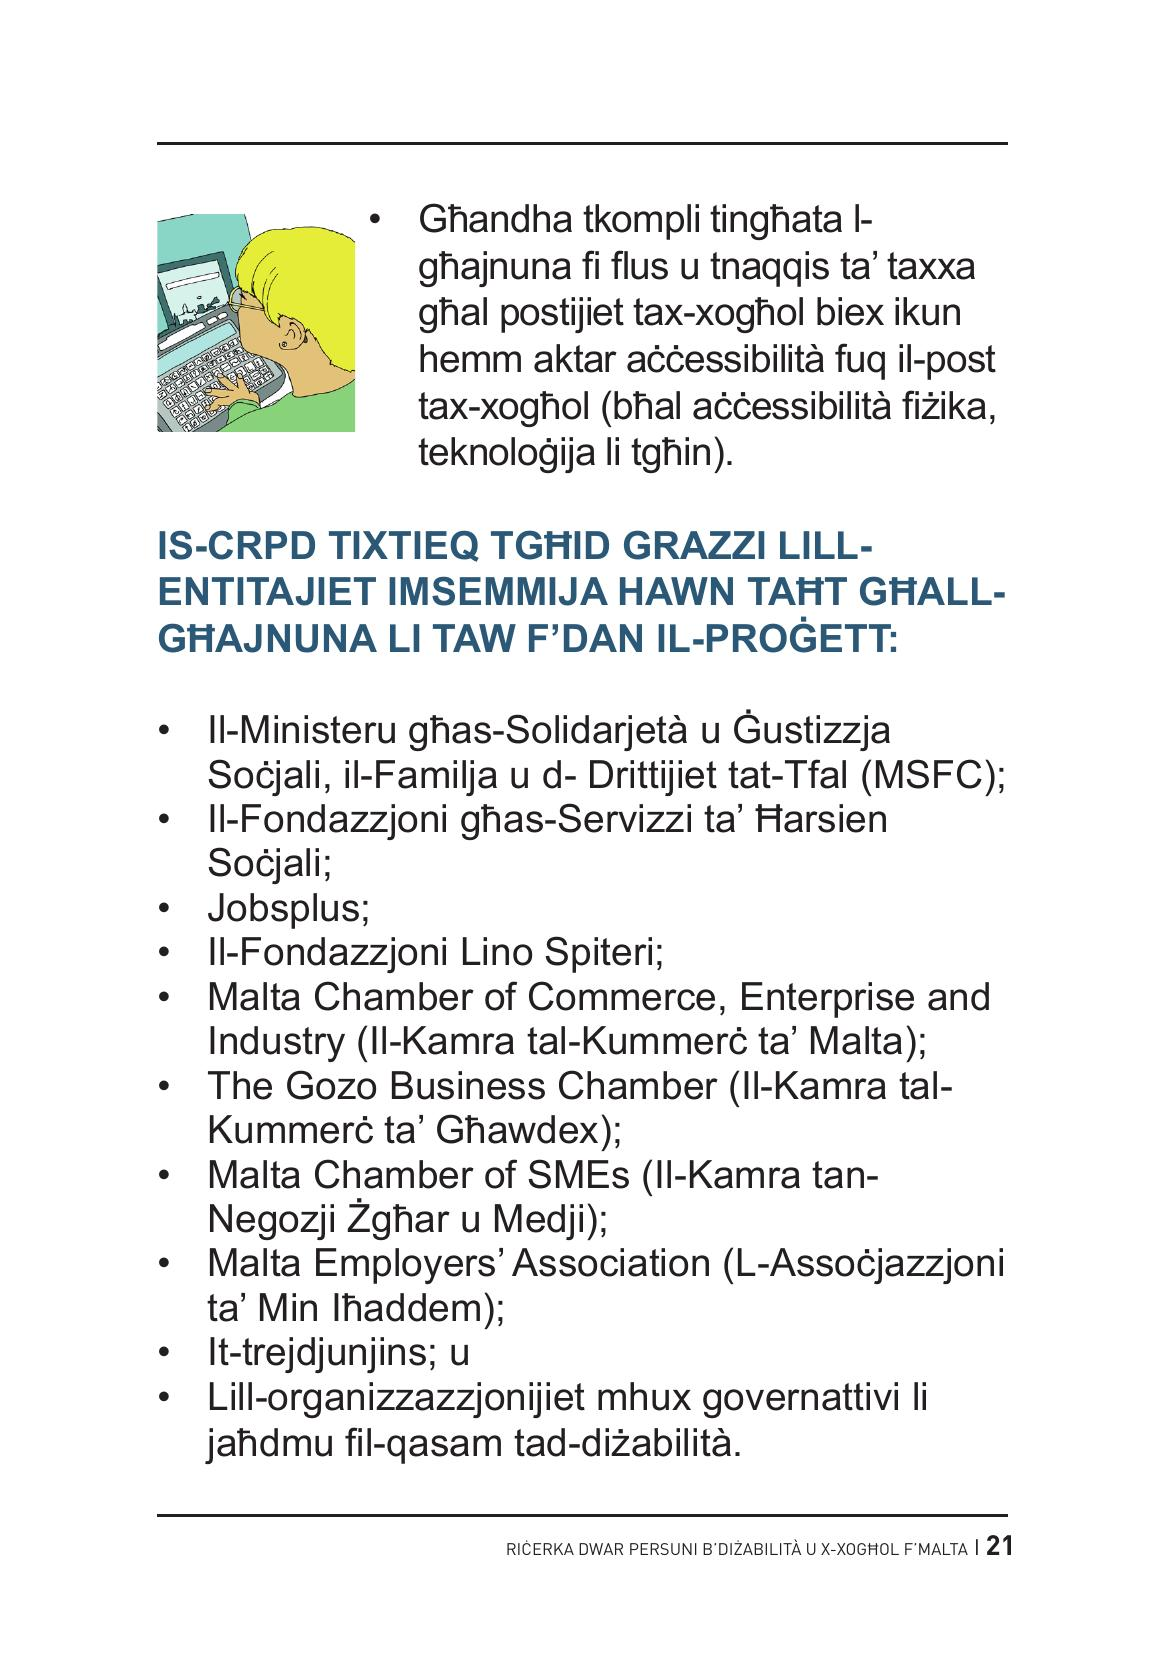text: (135, 510, 1020, 1485), (368, 185, 1028, 493)
